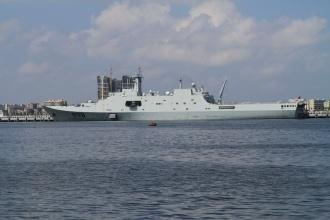warship: (45, 64, 304, 122)
